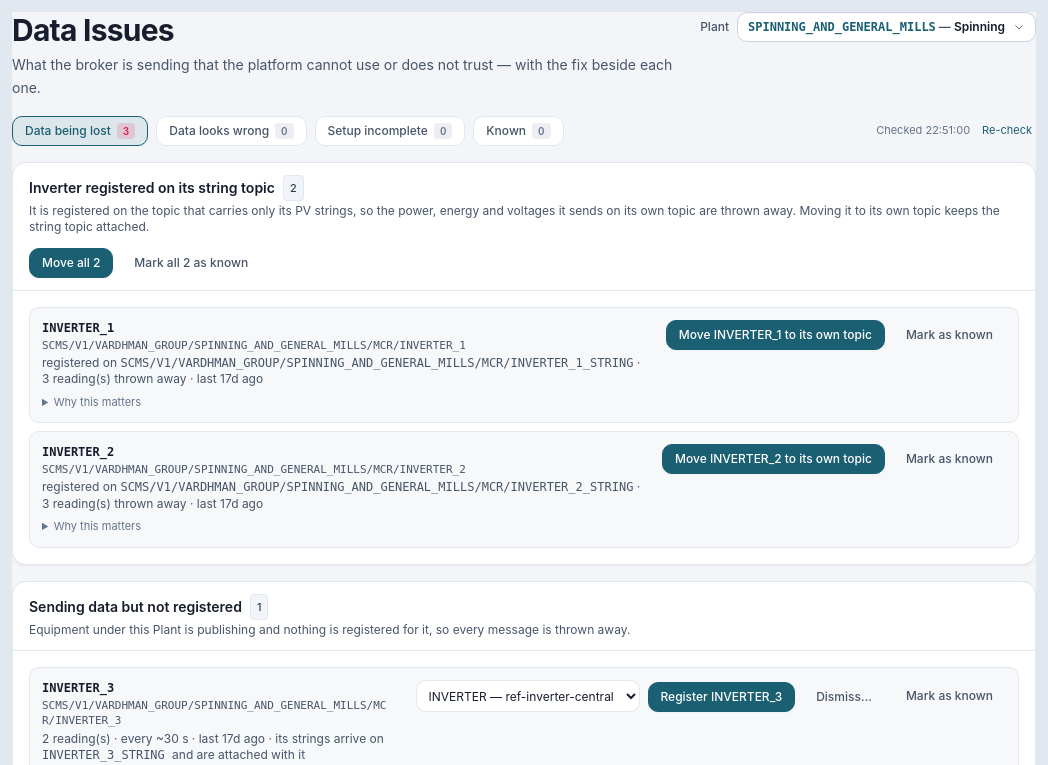
it: Data Issues: an Inverter and its string topic › registers an Inverter on its own topic and attaches its string topic in the same click
Click the button "Register INVERTER_3" at coordinates (721, 697), box [648, 682, 795, 712]
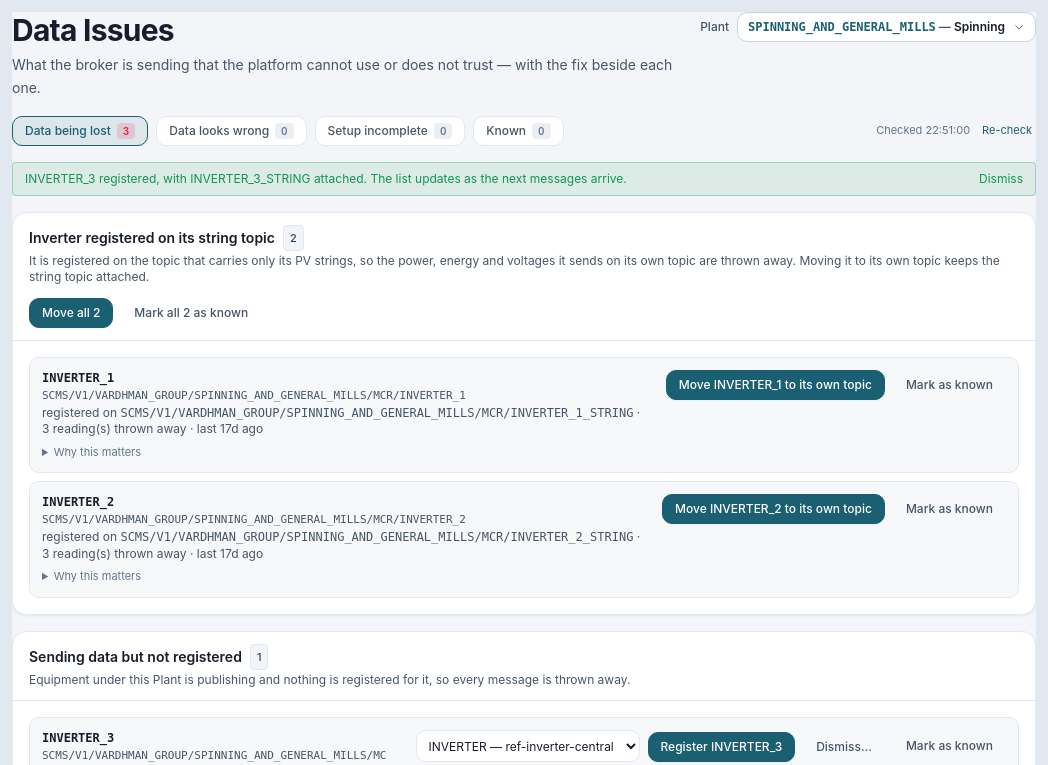
Now the message shows "INVERTER_3 registered, with INVERTER_3_STRING attached.", box [25, 170, 367, 186]
